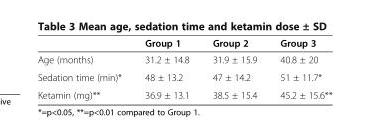table: (36, 36, 331, 100)
table column: (36, 36, 132, 100), (132, 36, 200, 100), (200, 36, 267, 100), (267, 36, 331, 100)
table column header: (36, 36, 331, 50)
table row: (36, 50, 331, 68), (36, 68, 331, 85), (36, 85, 331, 100), (36, 36, 331, 50)
